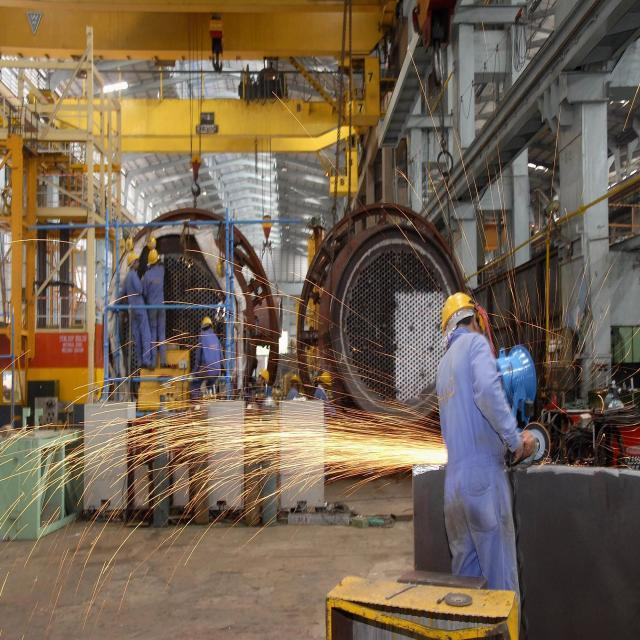reflective_jacket: (200, 331, 221, 375), (144, 268, 163, 307)
safety_helmet: (440, 288, 480, 327), (147, 248, 160, 264), (259, 366, 269, 382), (200, 314, 212, 327), (127, 251, 138, 265), (148, 237, 157, 247)
